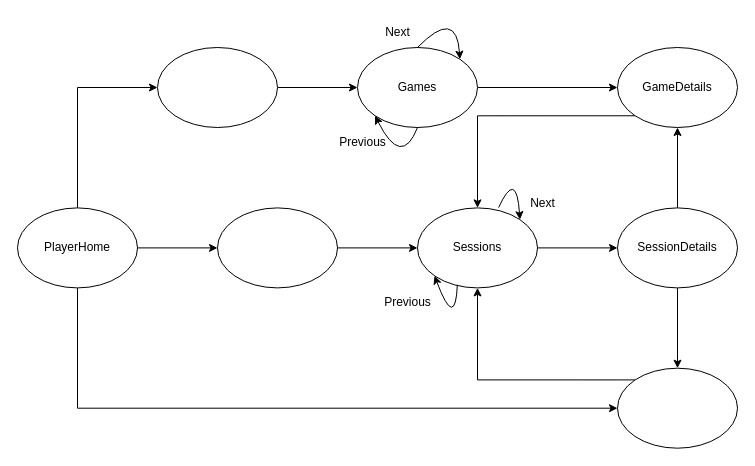
Some shapes in this 755 by 466 pixel diagram are drawn without their labels. Here are the shapes that lost their labels. From the top down, the box of each, then its label:
(156, 46, 278, 128): GamesSearch
(216, 207, 338, 288): SessionSearch
(616, 367, 738, 448): PlayerDetails
